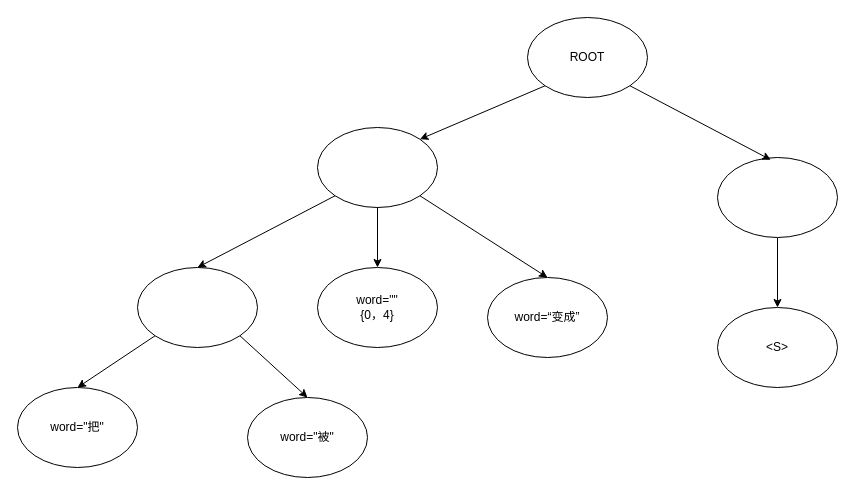
Image size: 855x495. Some labels were removed from this diagram. The shapes that lost their labels are listed below. From the top down, each one's centre as x and y in pixels, then its label:
At (x=377, y=167): "AND".
At (x=777, y=197): "within".
At (x=197, y=307): "OR".
